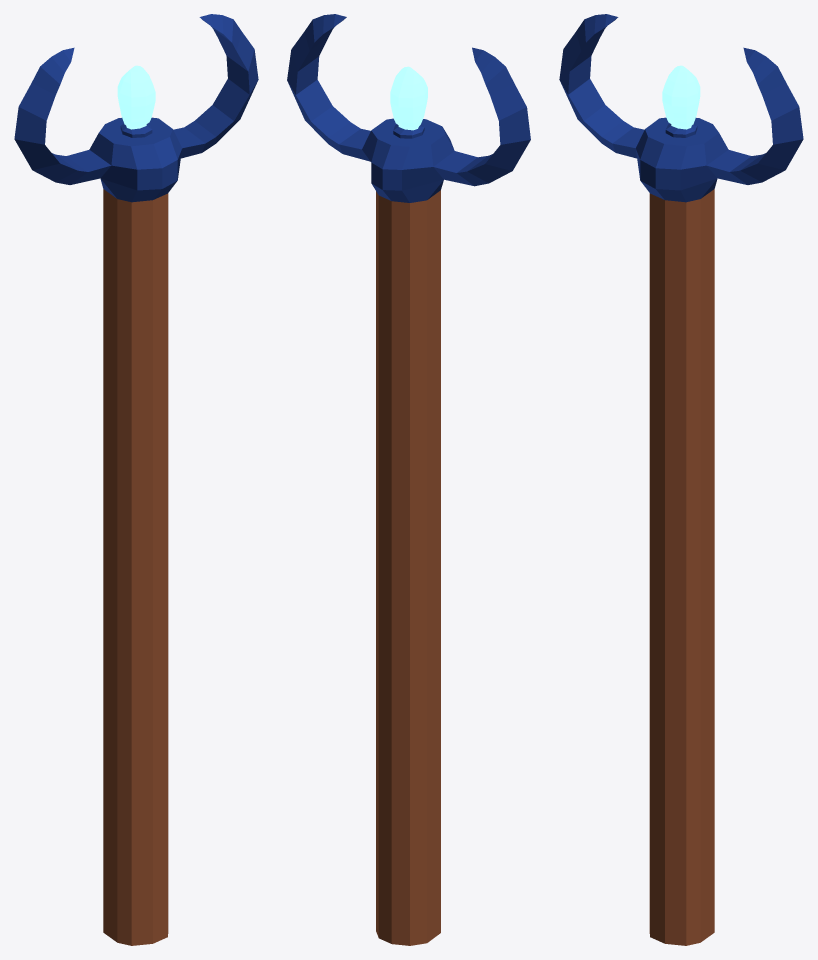
File: Staff.fbx
3 views of the same model, side by side, from view 1: azimuth 30°, elevation 25°; view 2: azimuth 150°, elevation 25°; view 3: azimuth 330°, elevation 25° (orthographic).
Parts seen in each view (by area): view 1: Cube; view 2: Cube; view 3: Cube.
Part boxes in pixels (x1,y1,x2,y2): Cube: [14, 14, 258, 945]; Cube: [287, 14, 530, 945]; Cube: [559, 14, 803, 945].
Bounding box in the file's own units: 169 × 595 × 62.72.
